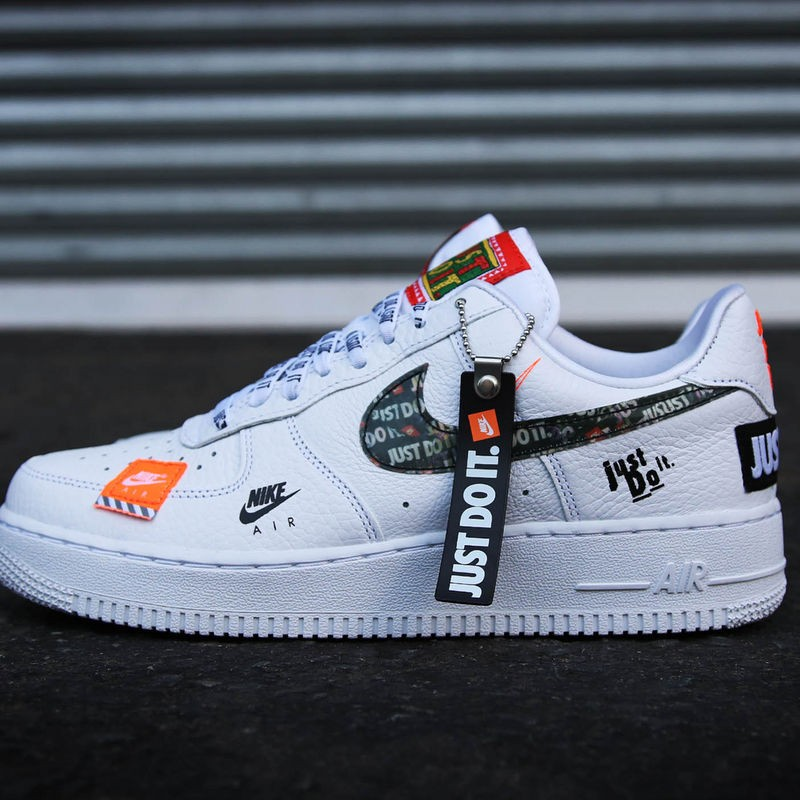nike: (359, 357, 706, 486)
